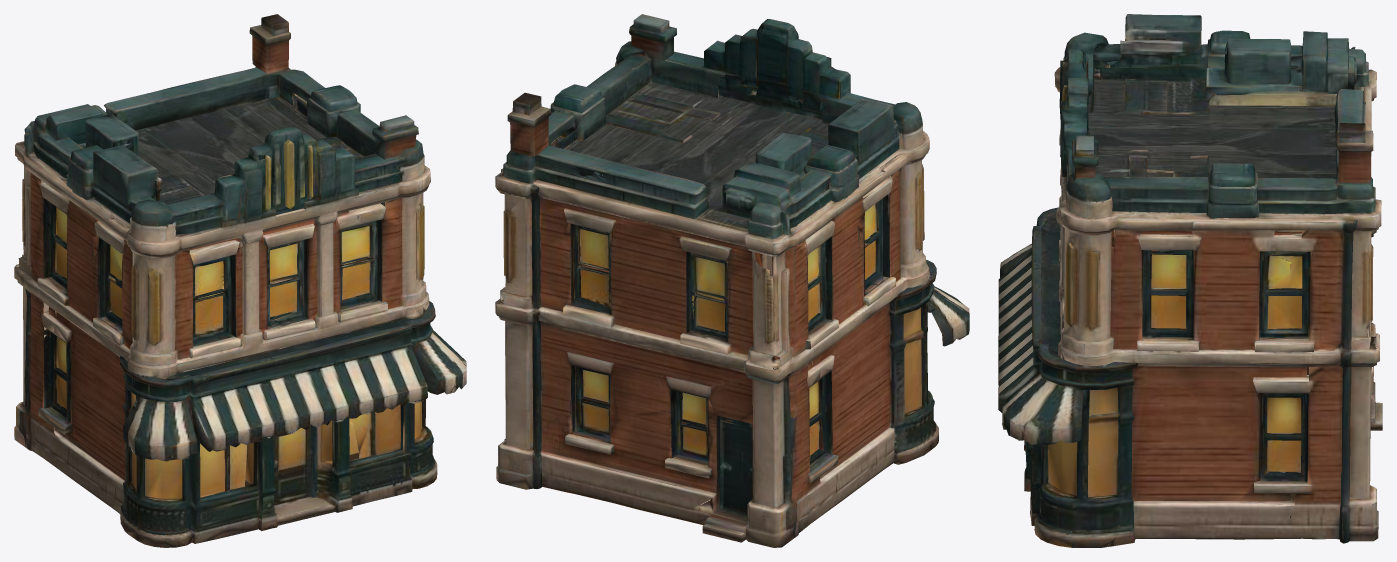
The picture shows the model from 3 angles, left to right: view 1: azimuth 30°, elevation 25°; view 2: azimuth 150°, elevation 25°; view 3: azimuth 270°, elevation 25°; orthographic projection. The views are drawn at different scales.
Visible parts, largest first — view 1: expansion__shop_2__native_mobile; view 2: expansion__shop_2__native_mobile; view 3: expansion__shop_2__native_mobile.
Part boxes in pixels (<box>): expansion__shop_2__native_mobile: <box>14,14,466,547</box>; expansion__shop_2__native_mobile: <box>495,14,969,547</box>; expansion__shop_2__native_mobile: <box>998,14,1382,547</box>.
Size of the model in its own units: 0.9278 by 1 by 0.8433.
Materials: 1 (1 with a texture image).
